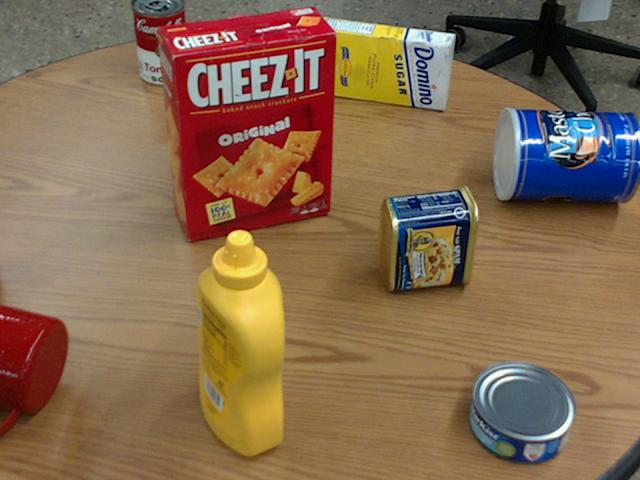cracker_box: (157, 8, 336, 240)
master_chef_can: (492, 107, 639, 202)
mug: (0, 302, 67, 432)
mustard_bottle: (197, 229, 281, 454)
potted_meat_can: (378, 184, 478, 291)
sugar_box: (315, 17, 457, 108)
tomato_soup_can: (132, 0, 189, 84)
tuna_fish_can: (467, 361, 573, 461)
